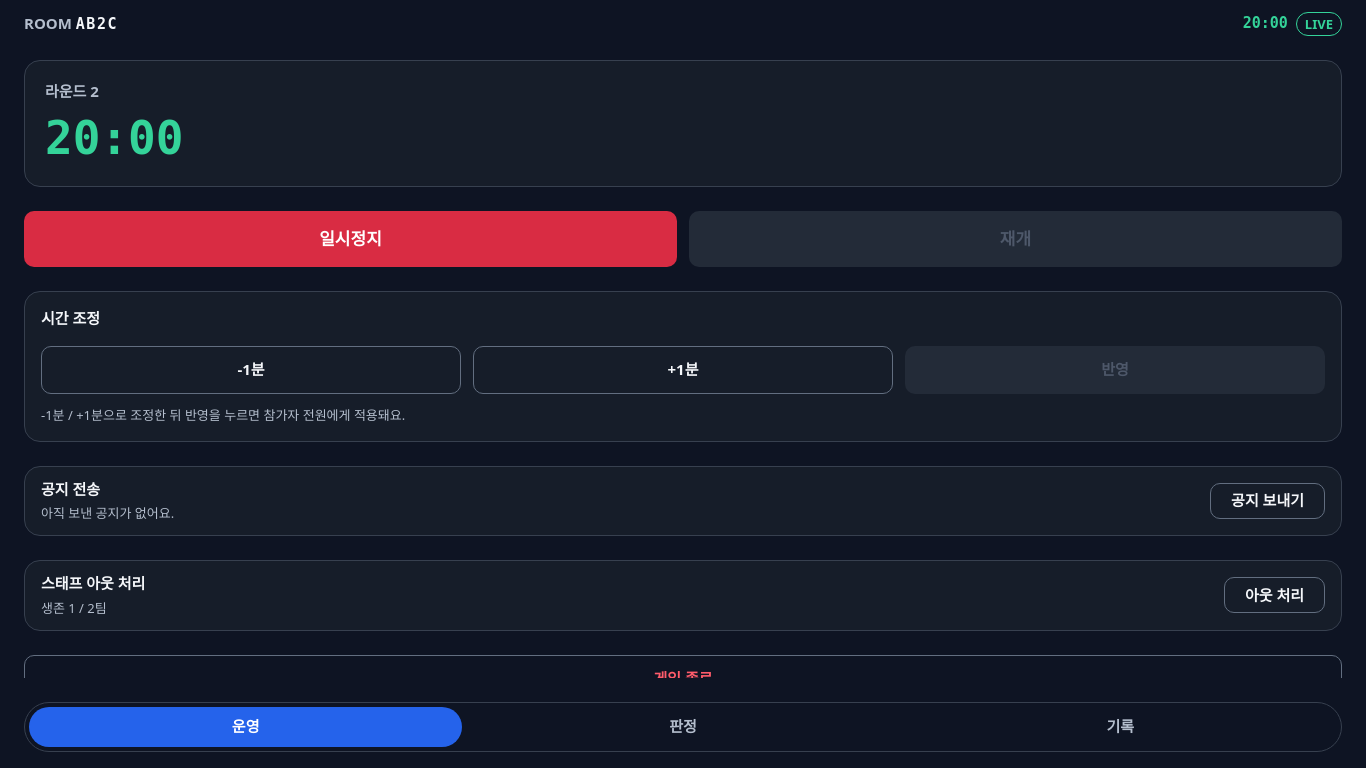
RoundOpsPage › 스태프 아웃 › 이미 탈락한 팀은 시트에서 선택할 수 없다
Step 1. Click the button "아웃 처리" → (1274, 595), box [1224,577,1325,613]
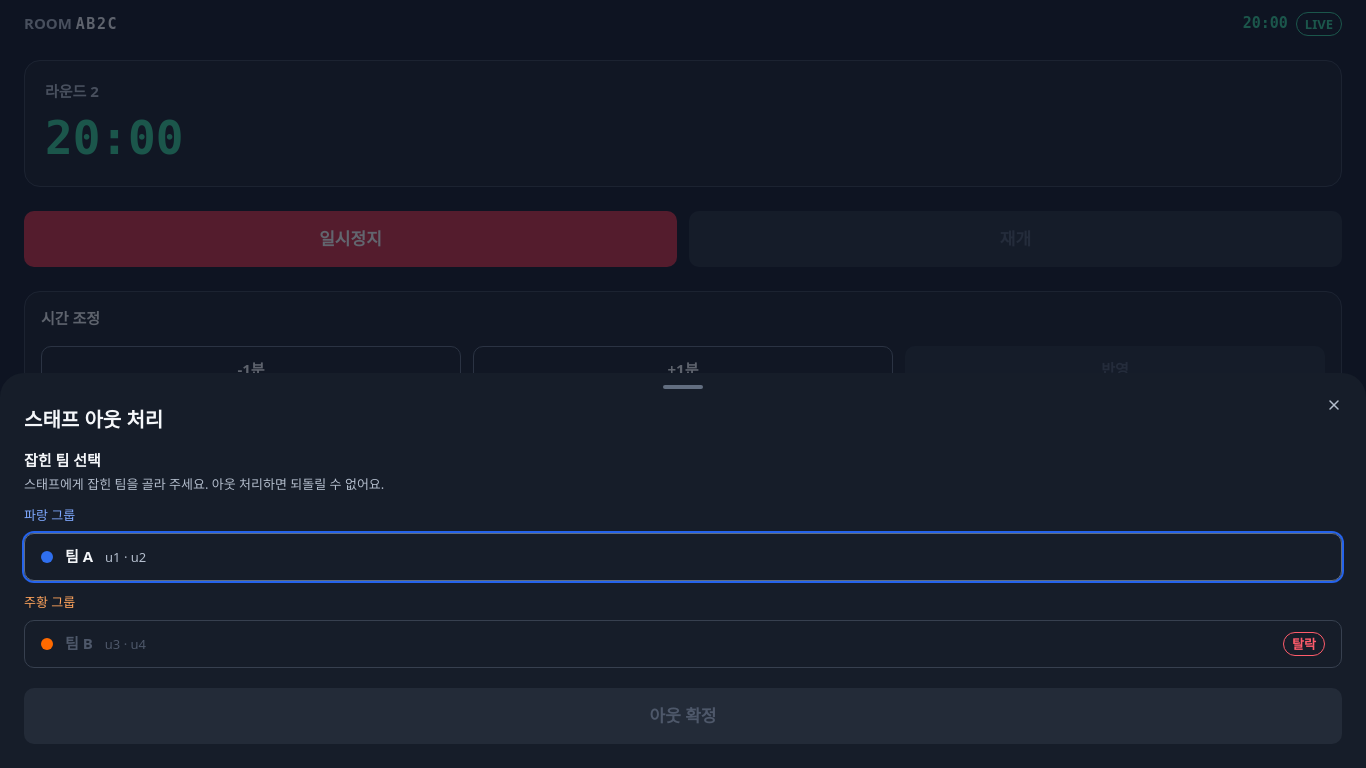
Expected: the button "팀 B u3 · u4 탈락" is disabled, [24,620,1342,668]
Expected: the button "팀 B u3 · u4 탈락" is shown, [24,620,1342,668]
